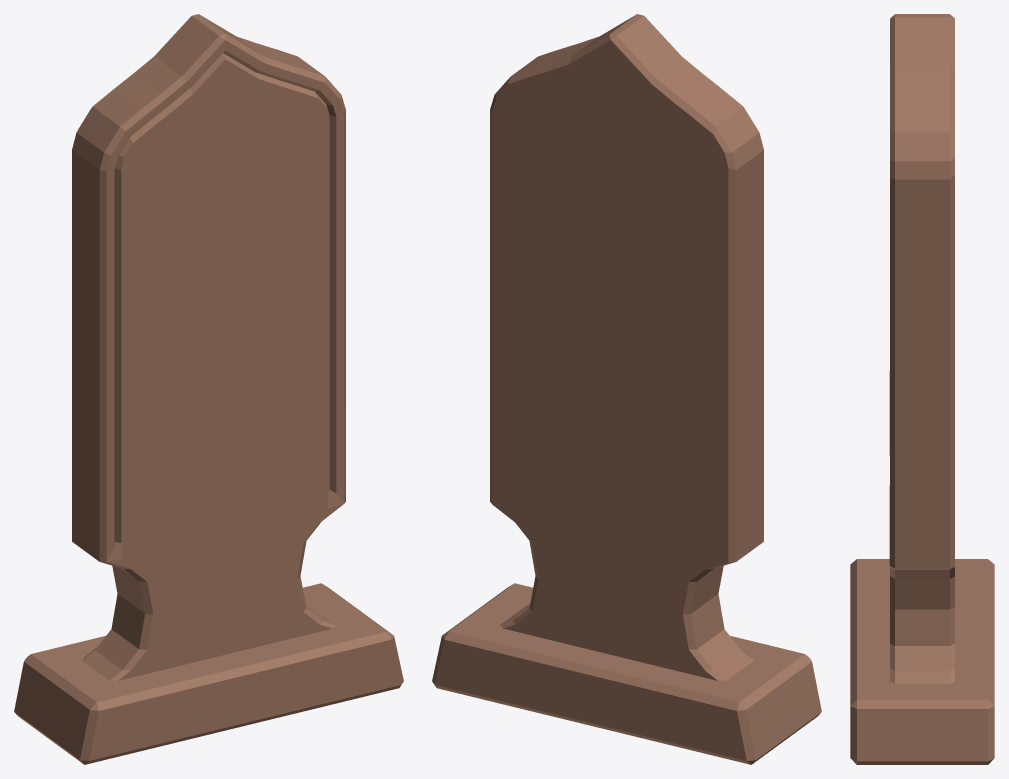
The model's file is fbx_Tablet_03.fbx.
3 views of the same model, side by side, from view 1: azimuth 30°, elevation 25°; view 2: azimuth 150°, elevation 25°; view 3: azimuth 270°, elevation 25° (orthographic).
Visible parts, largest first — view 1: Cube.007; view 2: Cube.007; view 3: Cube.007.
Boxes of the visible parts, x1,y1,x2,y2 form: Cube.007: [14, 14, 403, 764]; Cube.007: [432, 14, 821, 764]; Cube.007: [850, 14, 994, 764].
Bounding box in the file's own units: 118 × 236 × 45.9.
